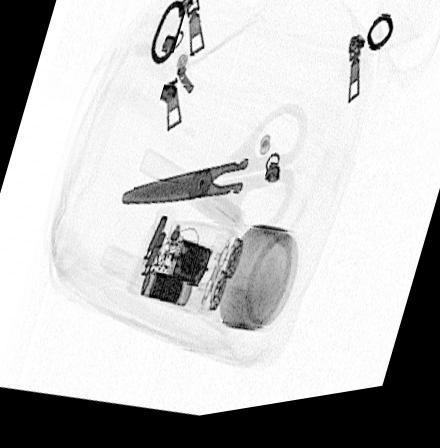Scissors: (121, 111, 310, 246)
